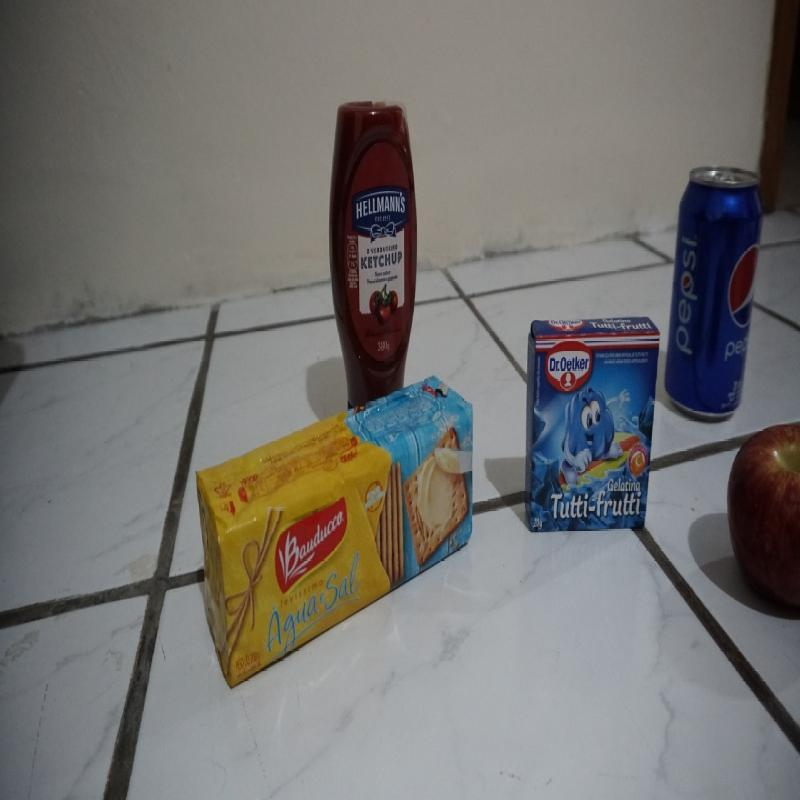Apple: (723, 421, 798, 606)
Cracker: (196, 375, 476, 691)
Gelatine: (527, 318, 661, 536)
Ketchup: (331, 97, 419, 372)
Soda can: (668, 158, 763, 419)
